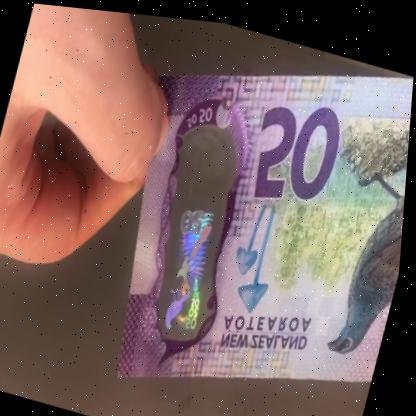50B: (143, 139, 241, 338)
